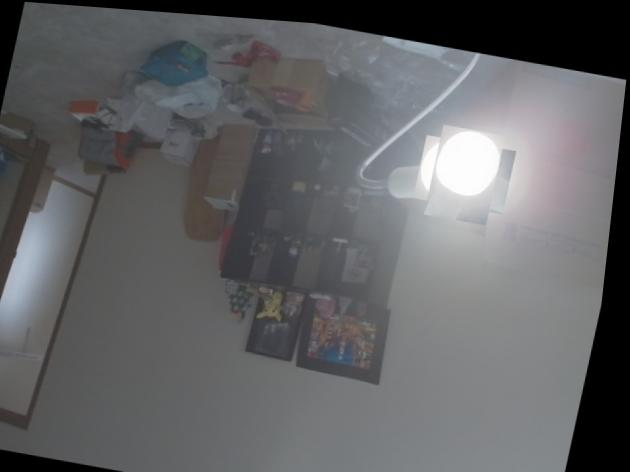TubeLight: (420, 120, 513, 211)
